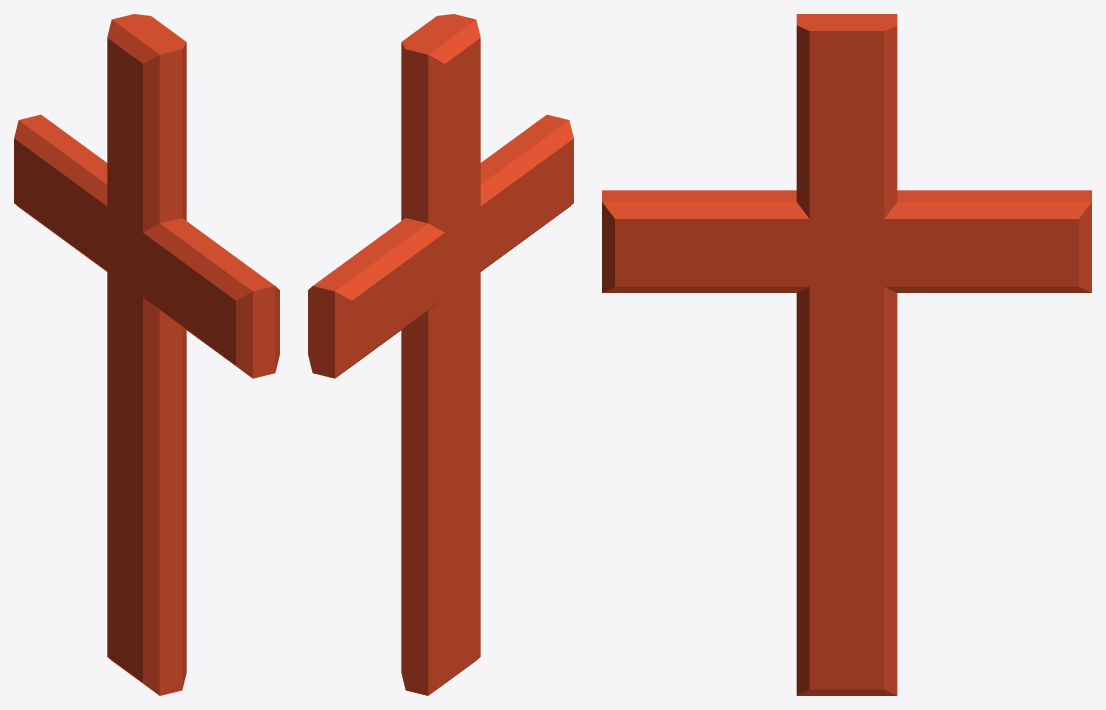
The model's file is Cross.fbx.
The picture shows the model from 3 angles, left to right: view 1: azimuth 30°, elevation 25°; view 2: azimuth 150°, elevation 25°; view 3: azimuth 270°, elevation 25°; orthographic projection. The views are drawn at different scales.
Visible parts, largest first — view 1: Cross; view 2: Cross; view 3: Cross.
Part boxes in pixels (x1,y1,x2,y2): Cross: [14, 14, 279, 695]; Cross: [308, 14, 573, 695]; Cross: [602, 14, 1091, 695].
Bounding box in the file's own units: 21.59 × 302 × 200.
